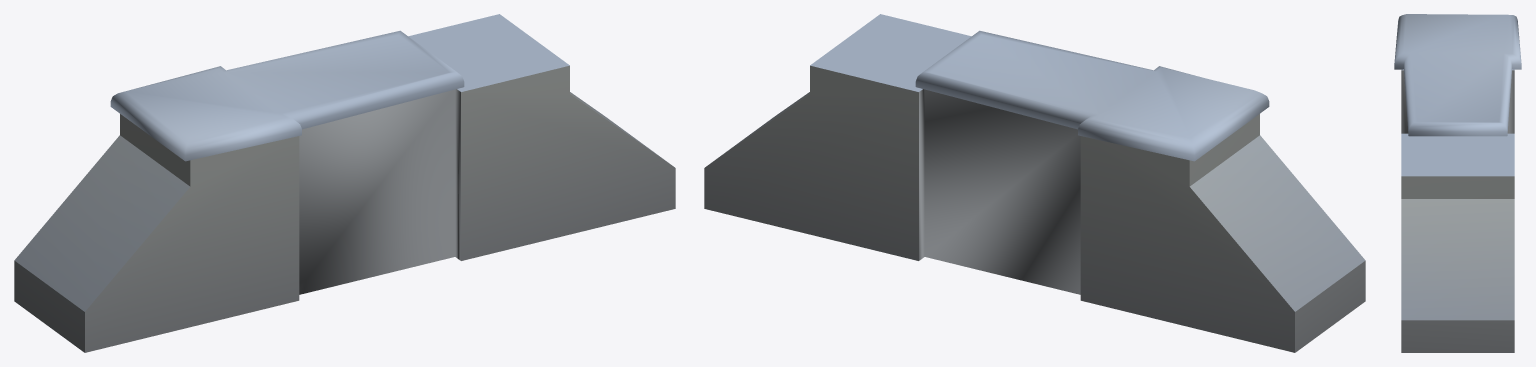
Rendered from jersey_barrier.glb.
3 renders of one model, left to right at view 1: azimuth 30°, elevation 25°; view 2: azimuth 150°, elevation 25°; view 3: azimuth 270°, elevation 25°, orthographic. The views are drawn at different scales.
Parts seen in each view (by area): view 1: Prop; view 2: Prop; view 3: Prop.
Boxes of the visible parts, x1,y1,x2,y2 form: Prop: (14, 14, 675, 352); Prop: (704, 14, 1365, 352); Prop: (1394, 14, 1521, 352).
Bounding box in the file's own units: 3 × 0.9079 × 0.6982.
